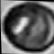correct: (1, 1, 54, 54)
